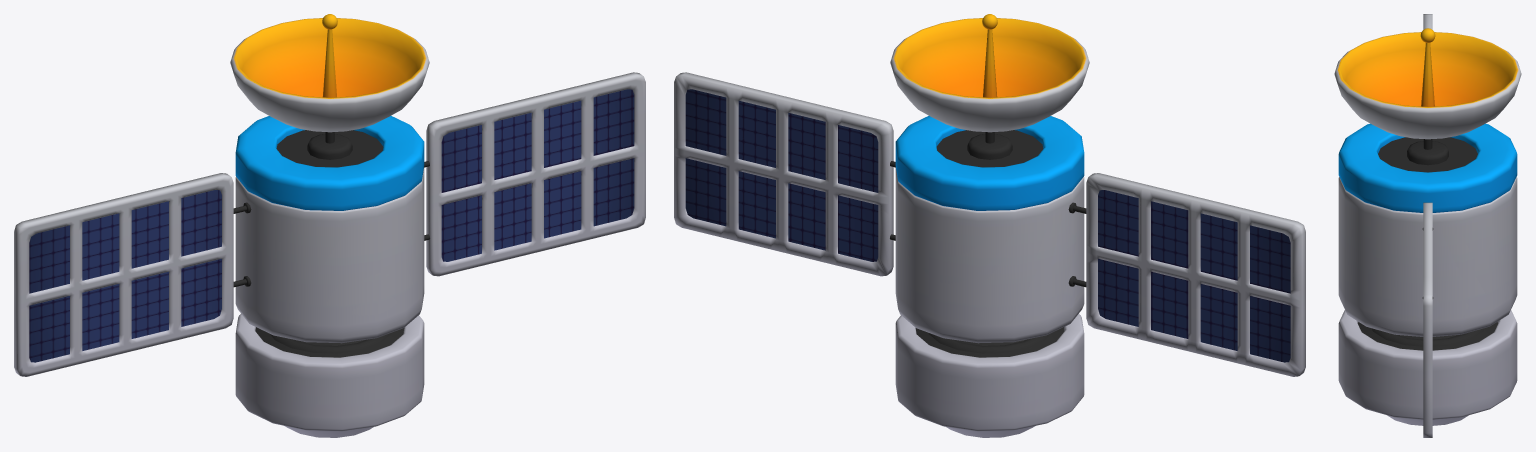
3 renders of one model, left to right at view 1: azimuth 30°, elevation 25°; view 2: azimuth 150°, elevation 25°; view 3: azimuth 270°, elevation 25°, orthographic. The views are drawn at different scales.
Visible parts, largest first — view 1: Satellite; view 2: Satellite; view 3: Satellite.
Boxes of the visible parts, x1,y1,x2,y2 form: Satellite: [14, 14, 645, 437]; Satellite: [674, 14, 1305, 437]; Satellite: [1334, 14, 1521, 437].
Bounding box in the file's own units: 1.22 × 0.7471 × 0.3352.
1 material, 1 textured.
